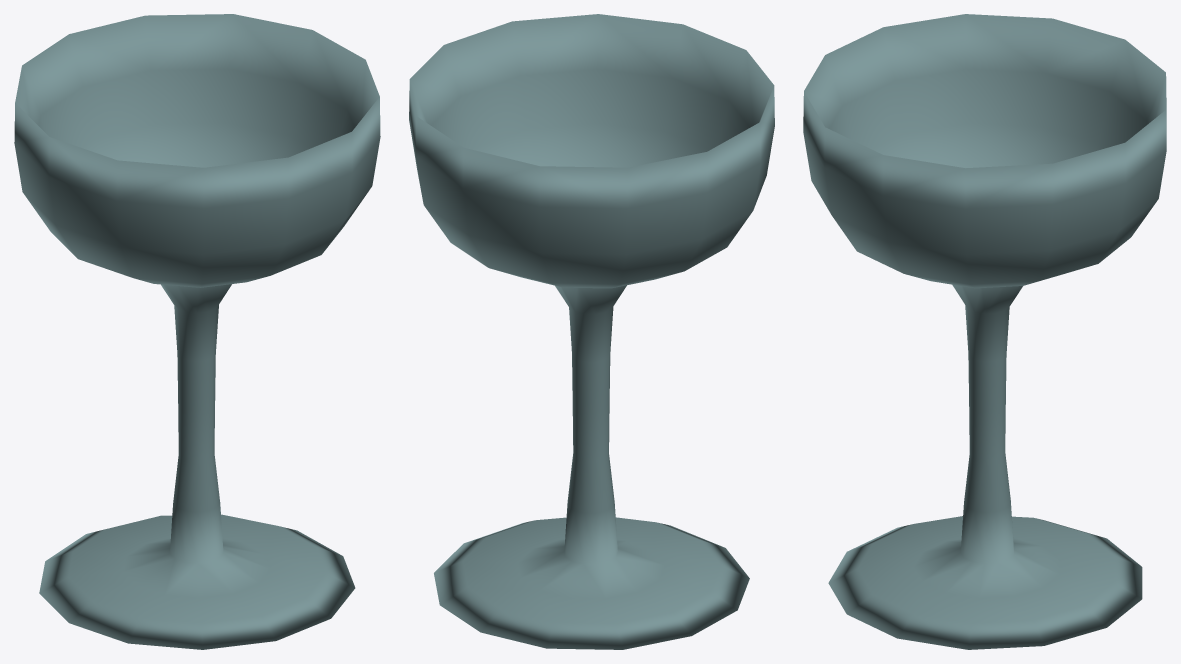
File: glas final.fbx
3 renders of one model, left to right at view 1: azimuth 30°, elevation 25°; view 2: azimuth 150°, elevation 25°; view 3: azimuth 270°, elevation 25°, orthographic.
Visible parts, largest first — view 1: nurbsToPoly2; view 2: nurbsToPoly2; view 3: nurbsToPoly2.
Part boxes in pixels (x1,y1,x2,y2): nurbsToPoly2: (14, 14, 380, 649); nurbsToPoly2: (409, 14, 774, 649); nurbsToPoly2: (803, 14, 1166, 649).
Bounding box in the file's own units: 2.26 × 3.4 × 2.25.
